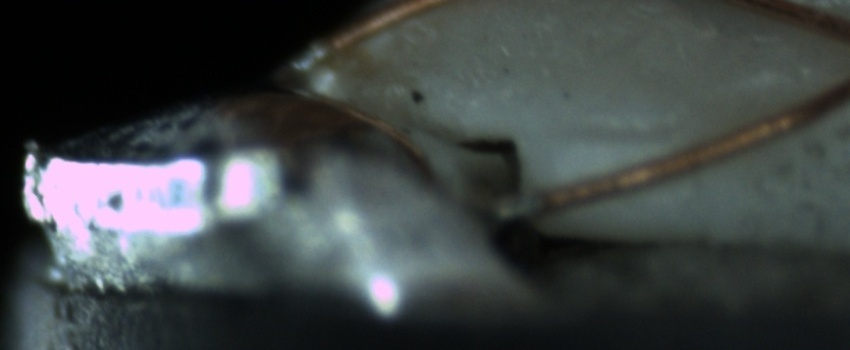DL: (548, 99, 681, 165)
TS: (493, 188, 542, 224)
